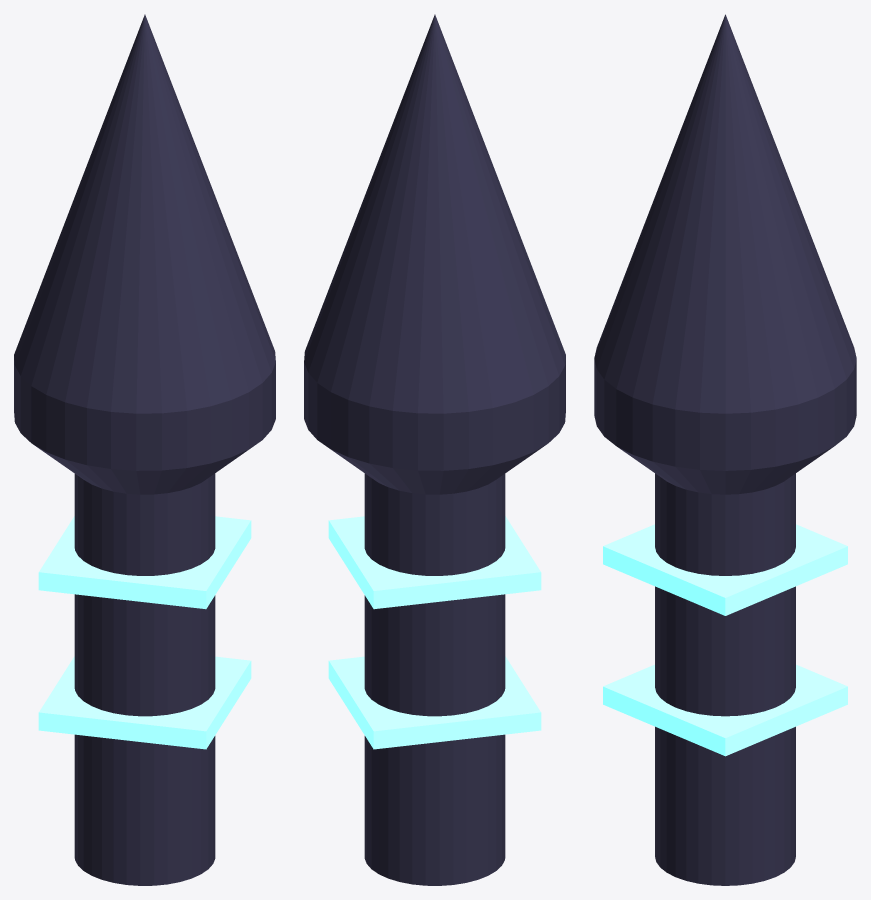
Rendered from Fencepost_NoWire.fbx.
3 views of the same model, side by side, from view 1: azimuth 30°, elevation 25°; view 2: azimuth 150°, elevation 25°; view 3: azimuth 270°, elevation 25° (orthographic).
Parts seen in each view (by area): view 1: _Fence Post; view 2: _Fence Post; view 3: _Fence Post.
Boxes of the visible parts, bbox=[...] form: _Fence Post: bbox=[14, 14, 275, 885]; _Fence Post: bbox=[304, 14, 565, 885]; _Fence Post: bbox=[594, 14, 856, 885].
Bounding box in the file's own units: 0.5256 × 1.86 × 0.5256.
